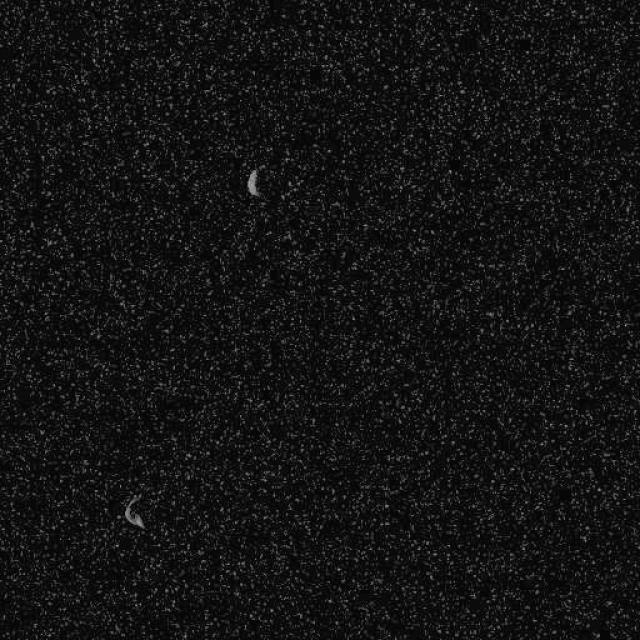D2: (122, 492, 146, 530), (245, 166, 261, 198)
